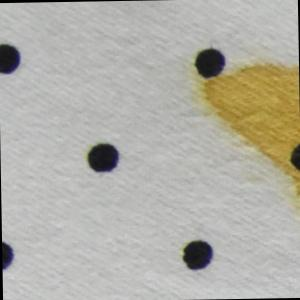Oil Stain: (197, 62, 300, 218)
